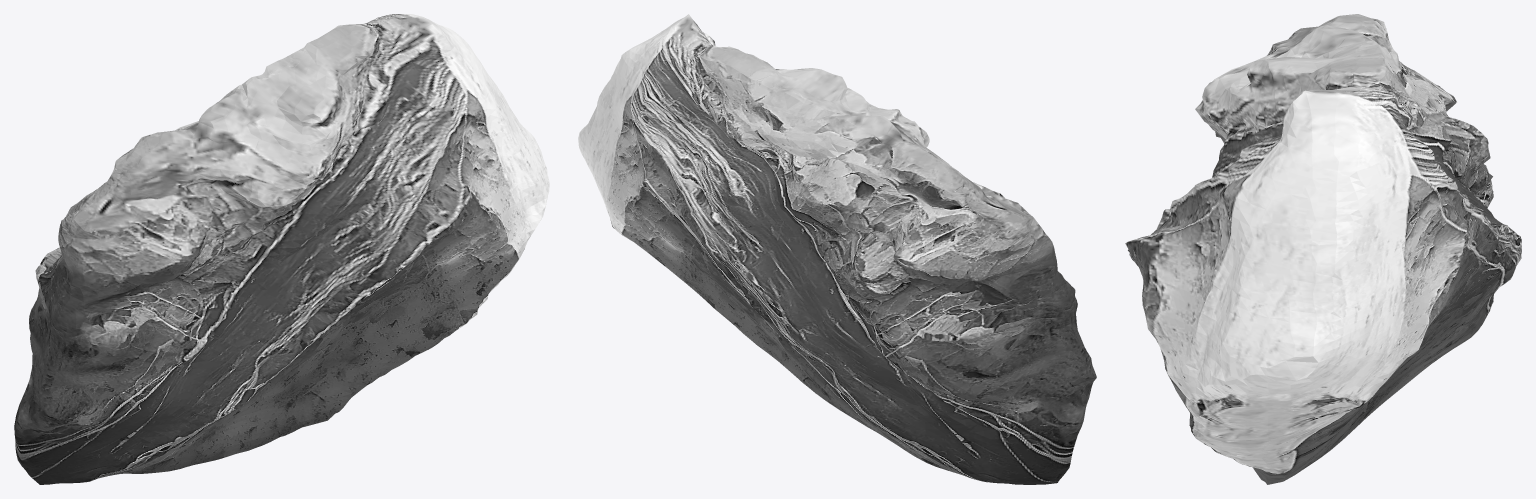
3 views of the same model, side by side, from view 1: azimuth 30°, elevation 25°; view 2: azimuth 150°, elevation 25°; view 3: azimuth 270°, elevation 25° (orthographic). The views are drawn at different scales.
Visible parts, largest first — view 1: StoneD; view 2: StoneD; view 3: StoneD.
Boxes of the visible parts, bbox=[...] form: StoneD: bbox=[14, 14, 549, 484]; StoneD: bbox=[578, 14, 1096, 484]; StoneD: bbox=[1125, 14, 1521, 484].
Size of the model in its own units: 0.8459 by 0.5985 by 0.4333.
1 material, 1 textured.
